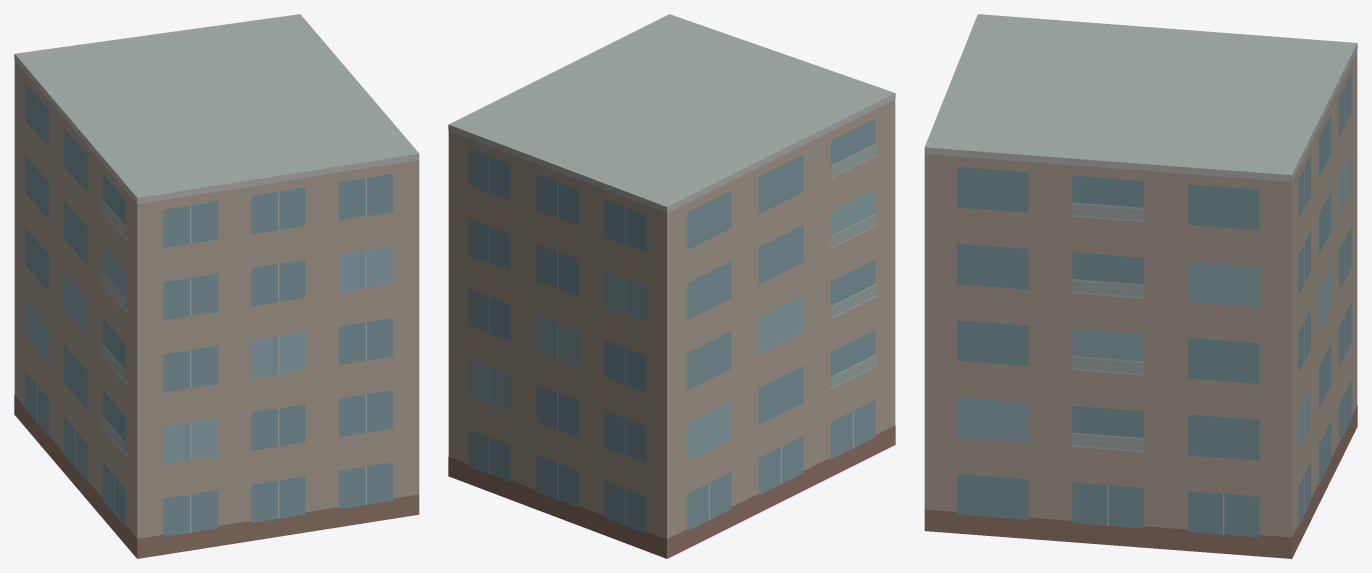
Rendered from survey-upis-32747431.glb.
The picture shows the model from 3 angles, left to right: view 1: azimuth 30°, elevation 25°; view 2: azimuth 150°, elevation 25°; view 3: azimuth 270°, elevation 25°; orthographic projection. The views are drawn at different scales.
Visible parts, largest first — view 1: survey-upis-32747431.tmp; view 2: survey-upis-32747431.tmp; view 3: survey-upis-32747431.tmp.
Part boxes in pixels (bbox=[...]): survey-upis-32747431.tmp: bbox=[14, 14, 419, 558]; survey-upis-32747431.tmp: bbox=[448, 14, 895, 558]; survey-upis-32747431.tmp: bbox=[924, 14, 1357, 558].
Size of the model in its own units: 12.62 by 14 by 14.33.
